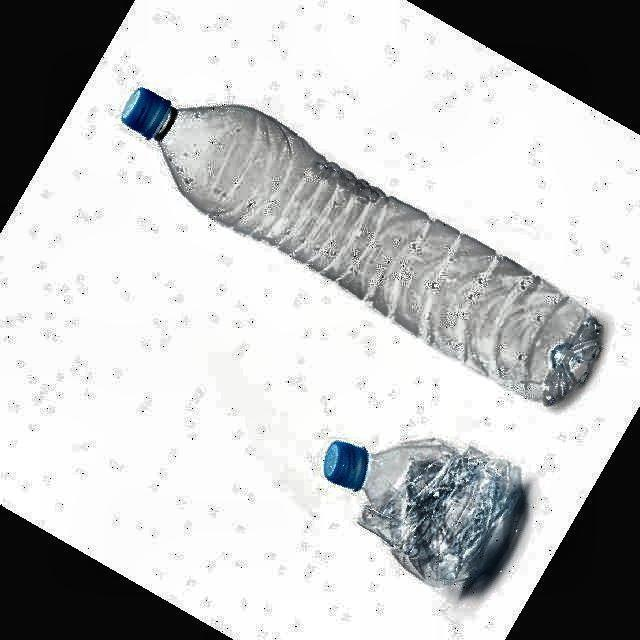plastic: (122, 88, 600, 403), (324, 440, 526, 592)
